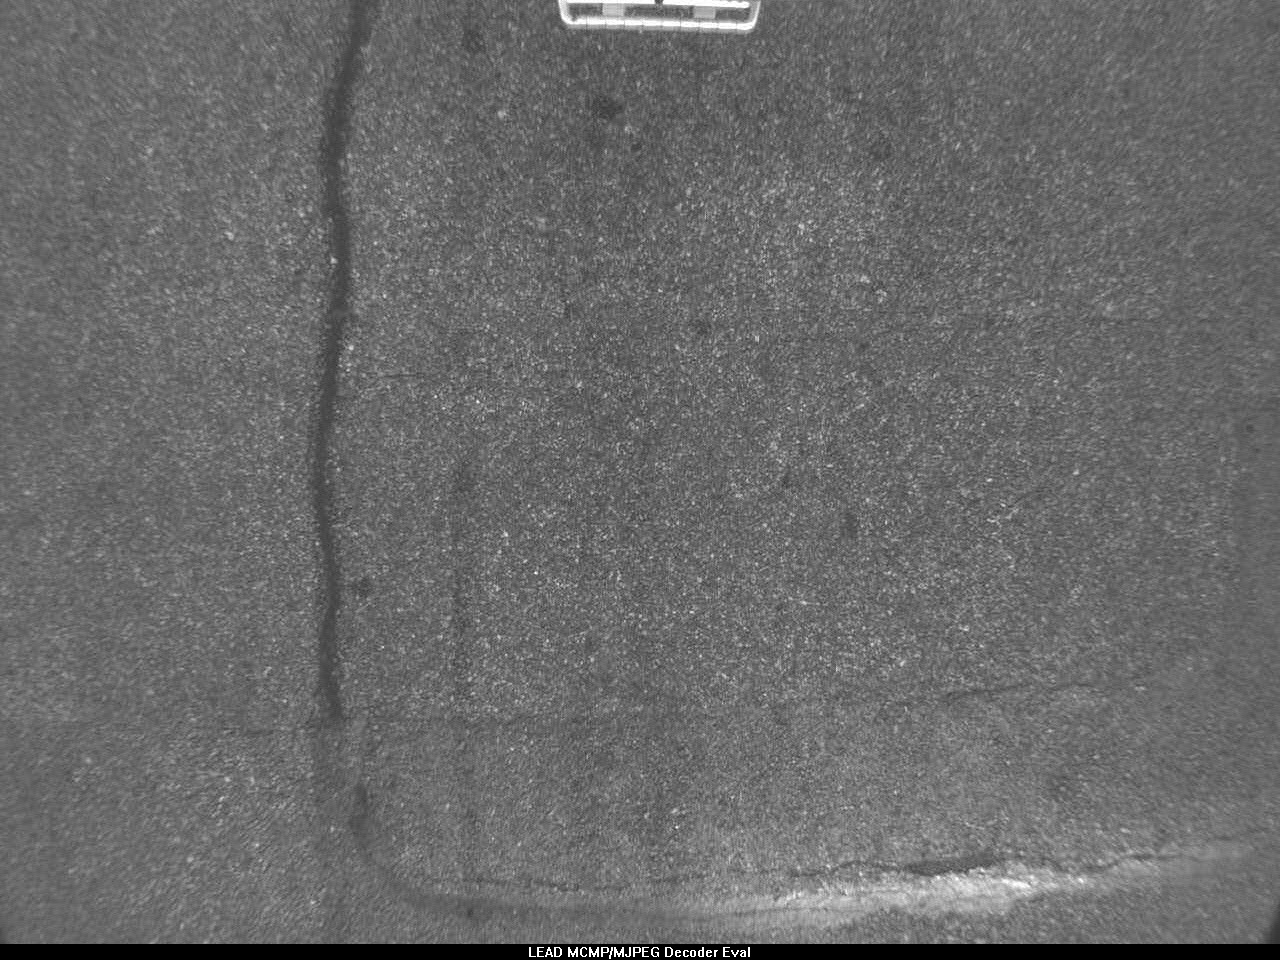sealed: (348, 814, 1256, 924), (300, 16, 366, 732)
